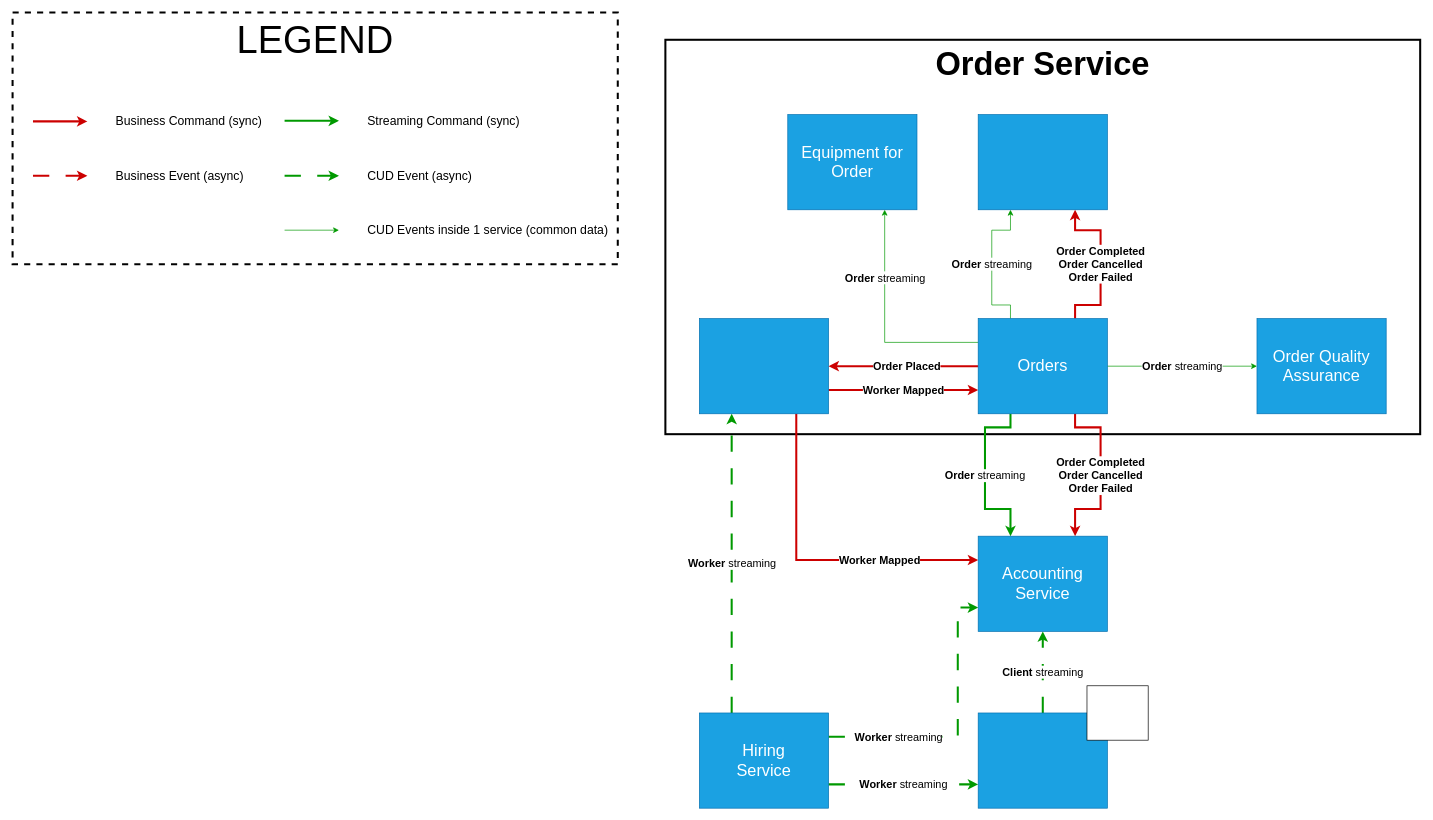
Image size: 1433x820. Some labels were removed from this diagram. Here are the shapes that lost their labels. From the top down, the centre of each, then its label:
At pixel 1042 162: "Order Gambling".
At pixel 764 366: "Order Mapping".
At pixel 1117 712: "All Services do sync calls to authenticate".
At pixel 1042 760: "Authentication Service".
